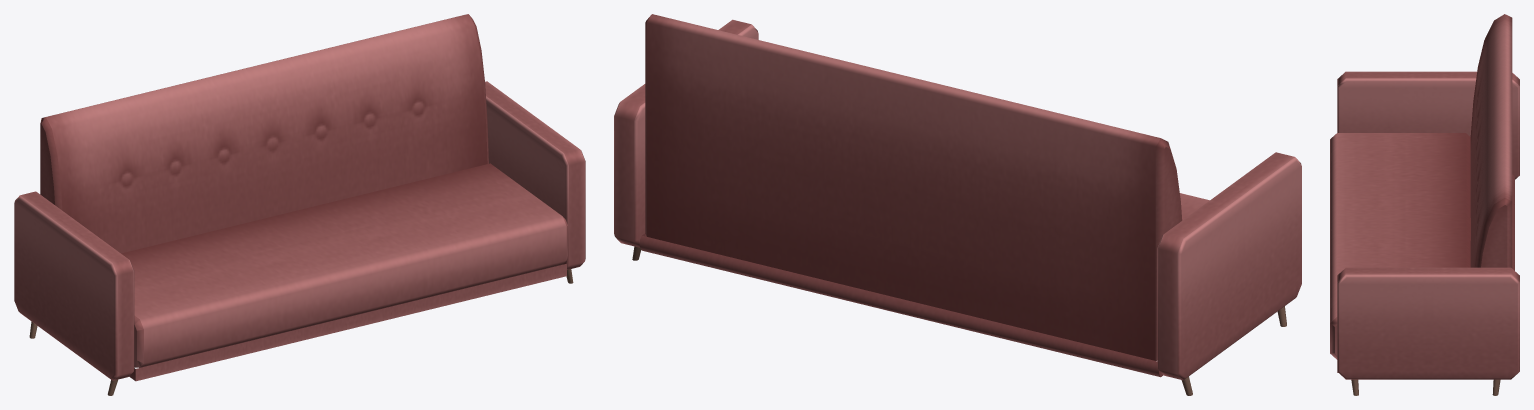
File: SM_Sofa_Big.fbx
3 views of the same model, side by side, from view 1: azimuth 30°, elevation 25°; view 2: azimuth 150°, elevation 25°; view 3: azimuth 270°, elevation 25° (orthographic). The views are drawn at different scales.
Visible parts, largest first — view 1: SM_Sofa_Big; view 2: SM_Sofa_Big; view 3: SM_Sofa_Big.
Boxes of the visible parts, <box> form: SM_Sofa_Big: <box>14,14,585,395</box>; SM_Sofa_Big: <box>614,14,1301,395</box>; SM_Sofa_Big: <box>1330,14,1519,395</box>.
Size of the model in its own units: 2.03 by 0.8751 by 0.7969.
